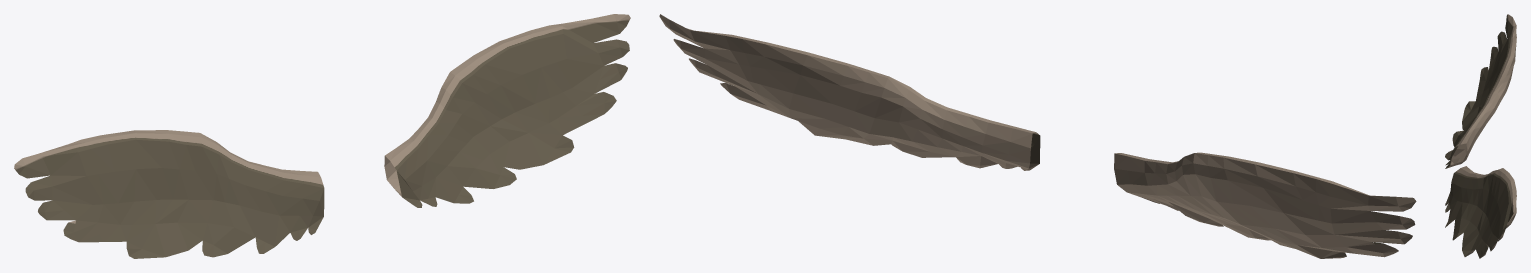
File: BR_Staraptor-Shiny01.obj
3 views of the same model, side by side, from view 1: azimuth 30°, elevation 25°; view 2: azimuth 150°, elevation 25°; view 3: azimuth 270°, elevation 25° (orthographic). The views are drawn at different scales.
Parts seen in each view (by area): view 1: mukuhawk; view 2: mukuhawk; view 3: mukuhawk.
Part boxes in pixels (bbox=[...]): mukuhawk: bbox=[14, 14, 630, 258]; mukuhawk: bbox=[659, 14, 1416, 258]; mukuhawk: bbox=[1445, 14, 1516, 258].
Size of the model in its own units: 35.91 by 6.03 by 5.2.
Materials: 1 (1 with a texture image).
